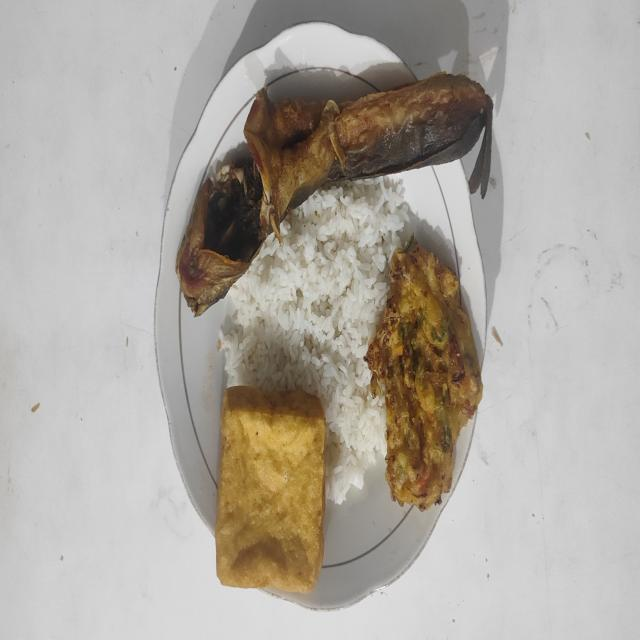nasi_putih: (220, 177, 409, 504)
tahu_goreng: (215, 386, 326, 591)
